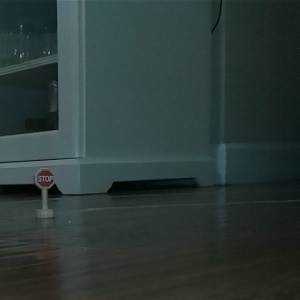stop sign: (33, 166, 55, 219)
